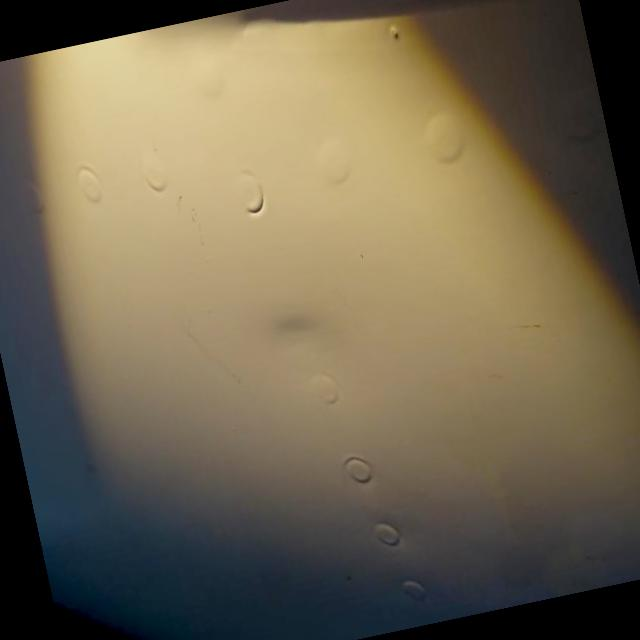dent: (231, 272, 380, 443)
